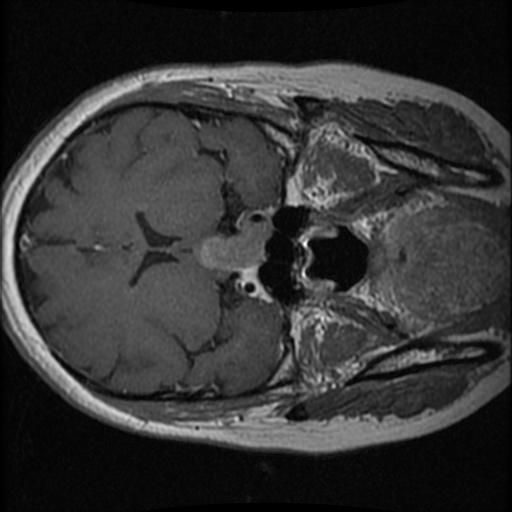pituitary tumour: (197, 221, 271, 272)
